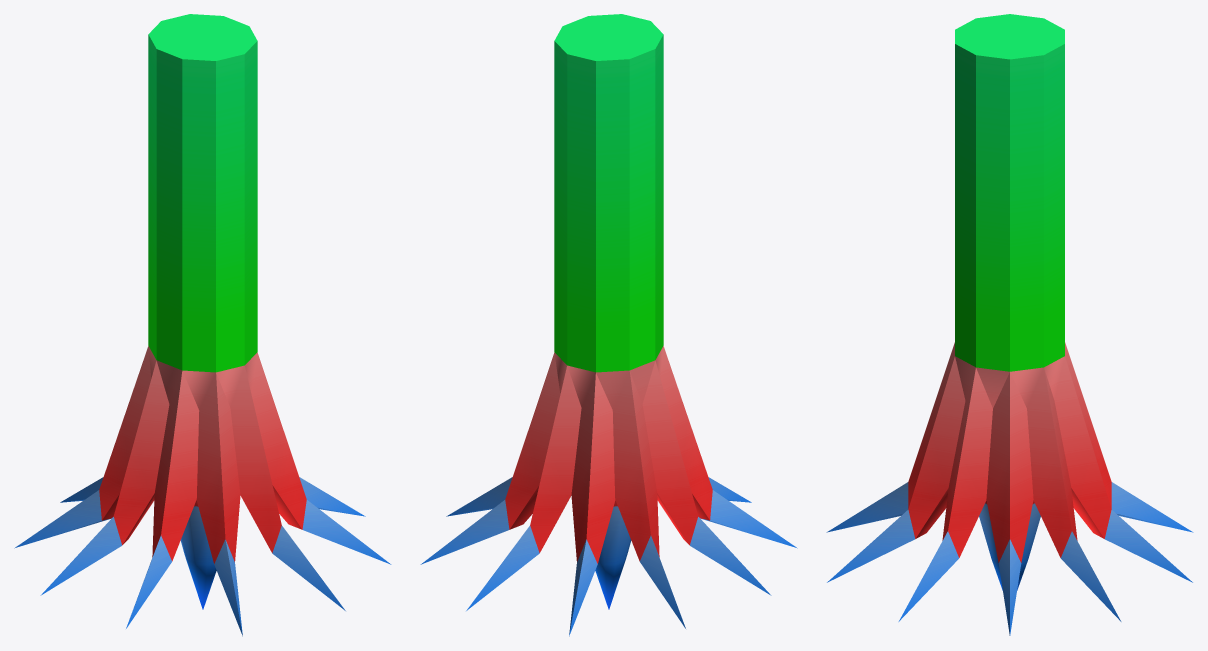
The model's file is Grip_Four.fbx.
The picture shows the model from 3 angles, left to right: view 1: azimuth 30°, elevation 25°; view 2: azimuth 150°, elevation 25°; view 3: azimuth 270°, elevation 25°; orthographic projection.
Visible parts, largest first — view 1: Grip_Four; view 2: Grip_Four; view 3: Grip_Four.
Boxes of the visible parts, x1,y1,x2,y2 form: Grip_Four: [14, 14, 391, 636]; Grip_Four: [420, 14, 797, 636]; Grip_Four: [826, 14, 1193, 635].
Size of the model in its own units: 2.63 by 4.42 by 2.56.
